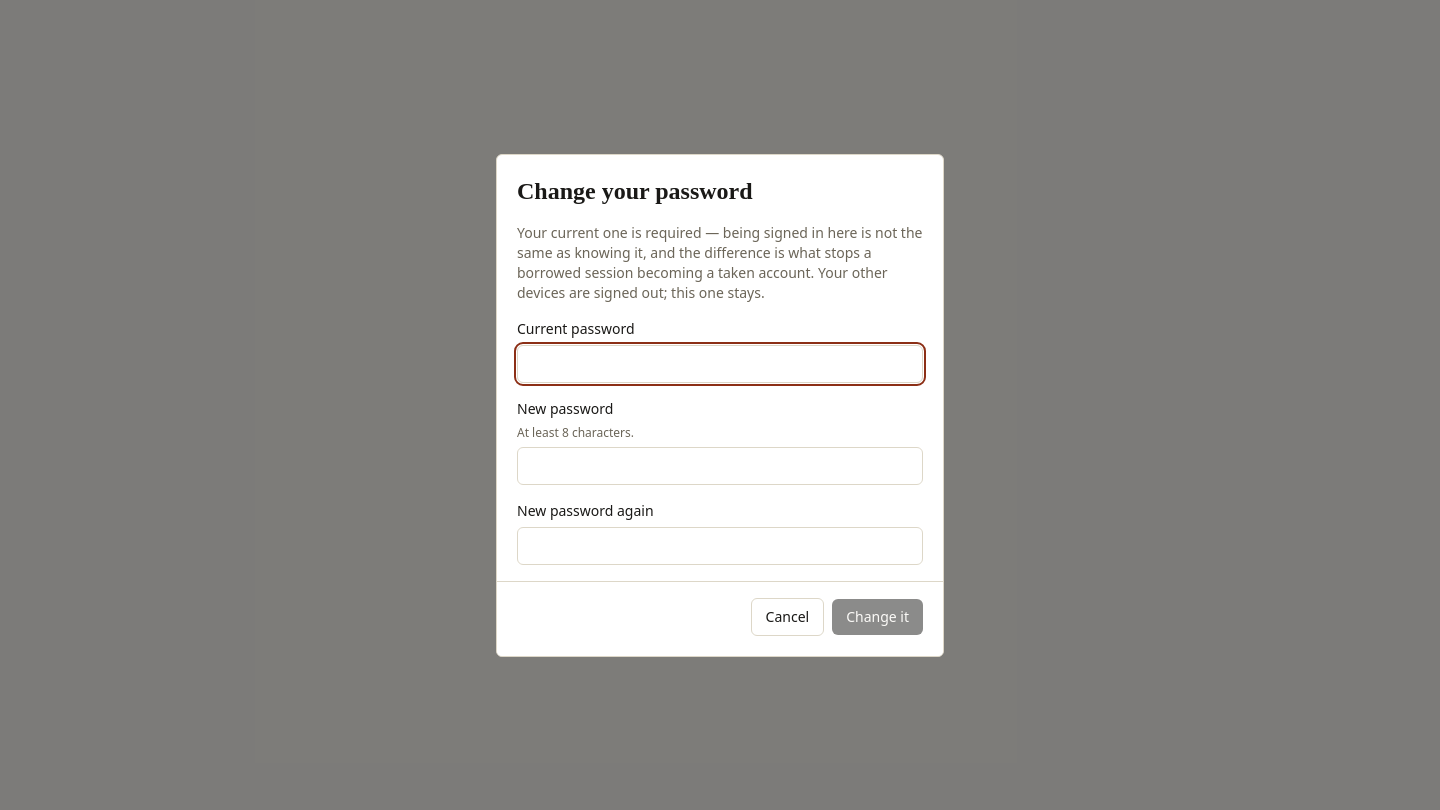
PasswordDialog › says what the refusal was, and stays open
Step 1. Type "wrong-horse" into the password field labelled "Current password" → (720, 364), box [517, 344, 923, 382]
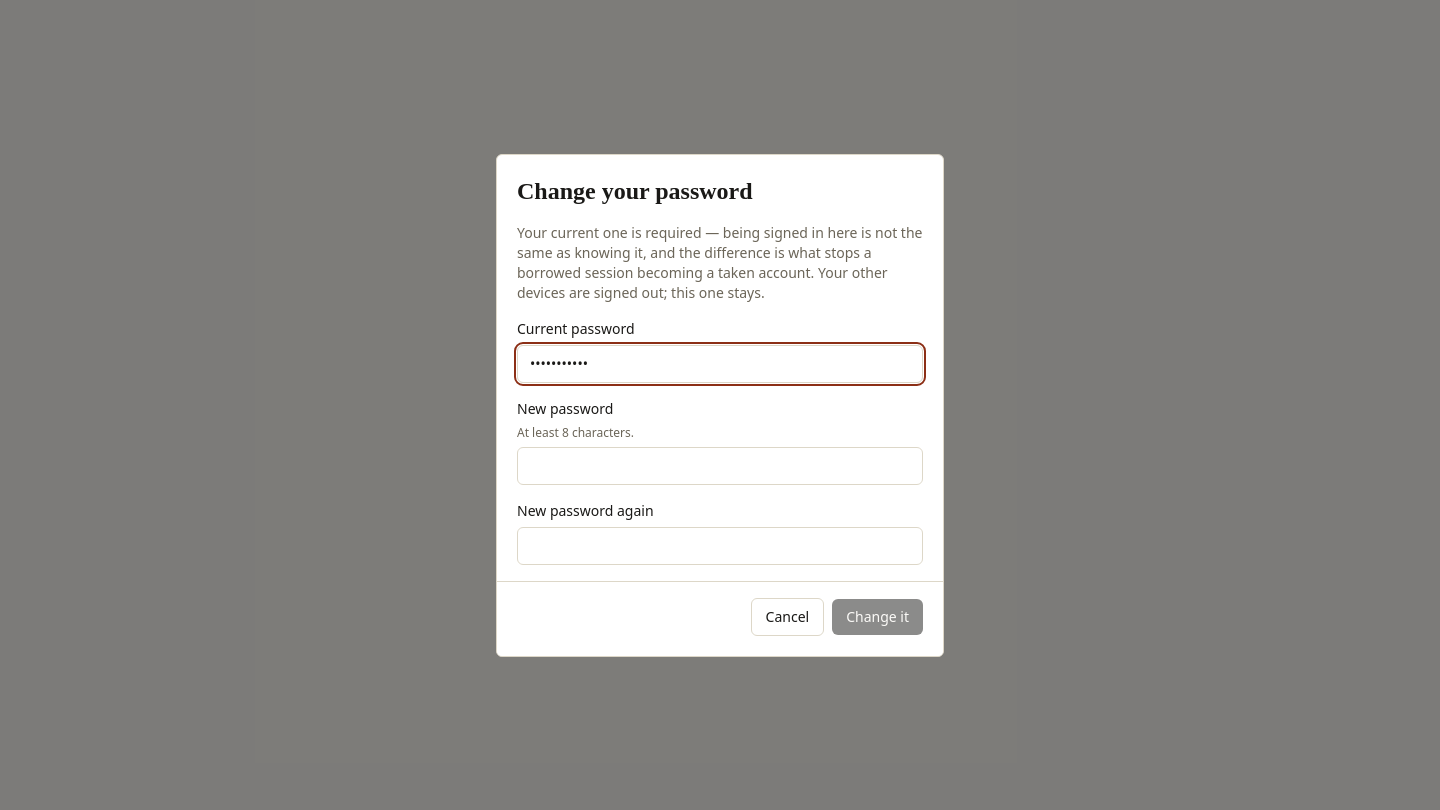
Step 2. Type "a-brand-new-one" into the password field labelled "New password" → (720, 466), box [517, 446, 923, 484]
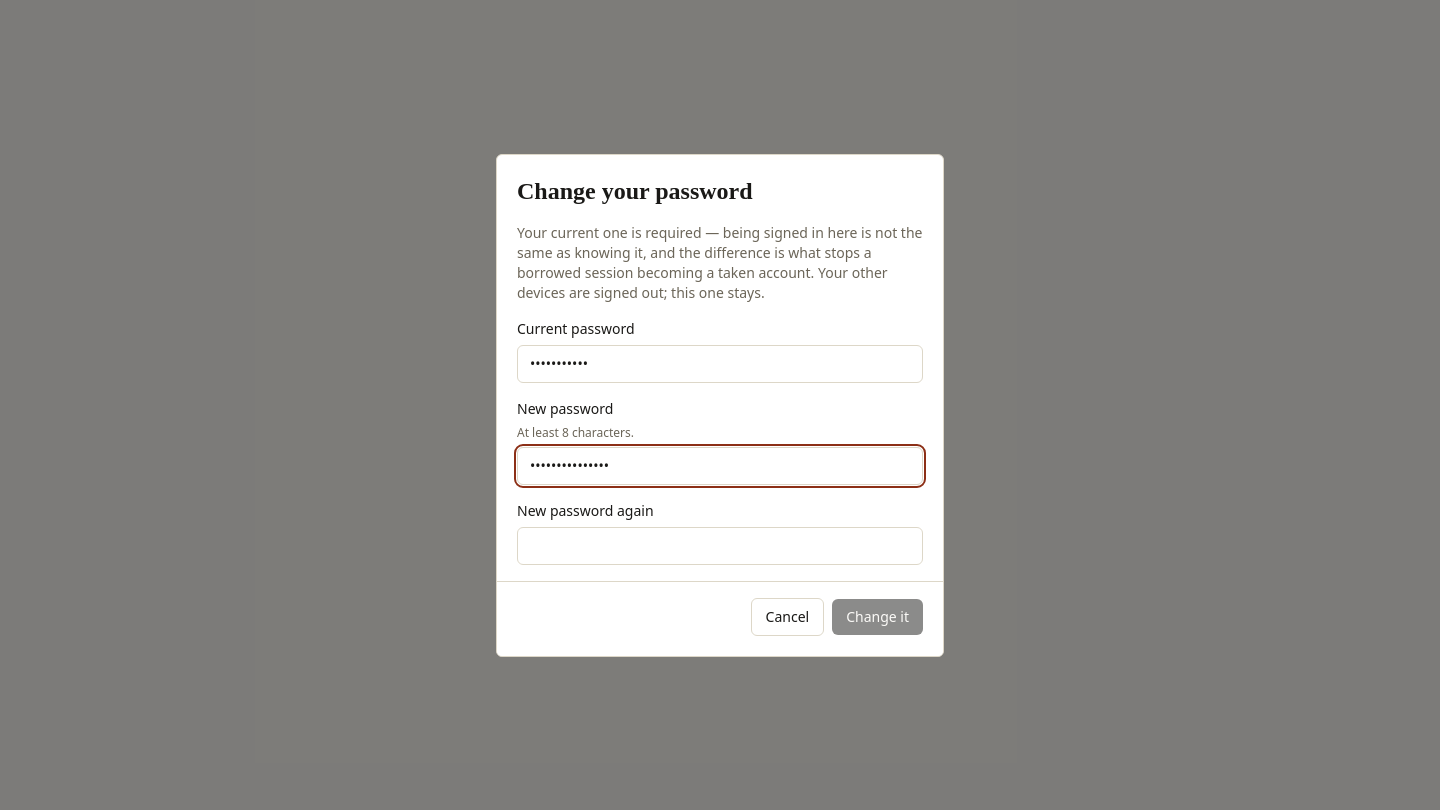
Step 3. Type "a-brand-new-one" into the password field labelled "New password again" → (720, 546), box [517, 526, 923, 564]
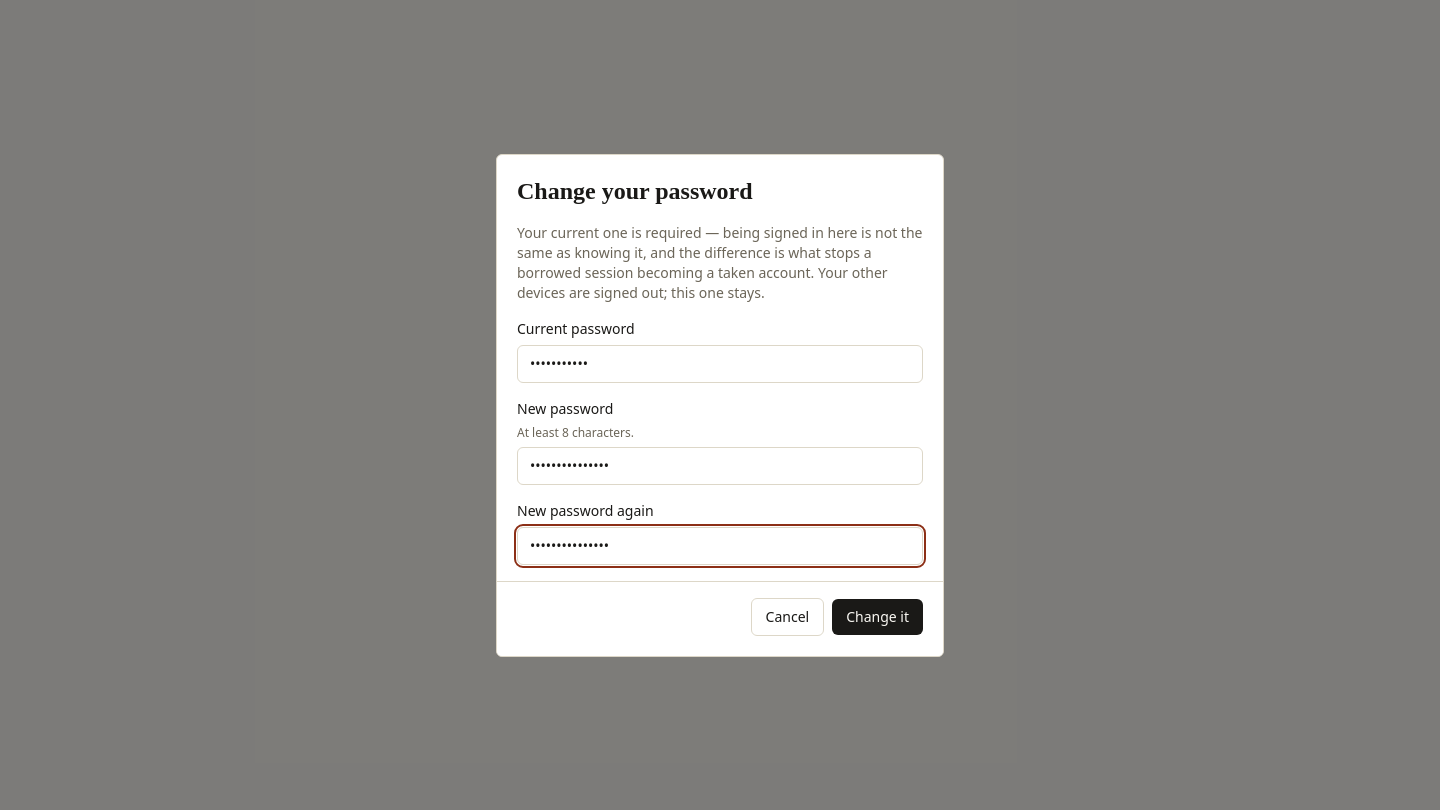
Step 4. Click the button "Change it" → (878, 616), box [832, 598, 923, 634]
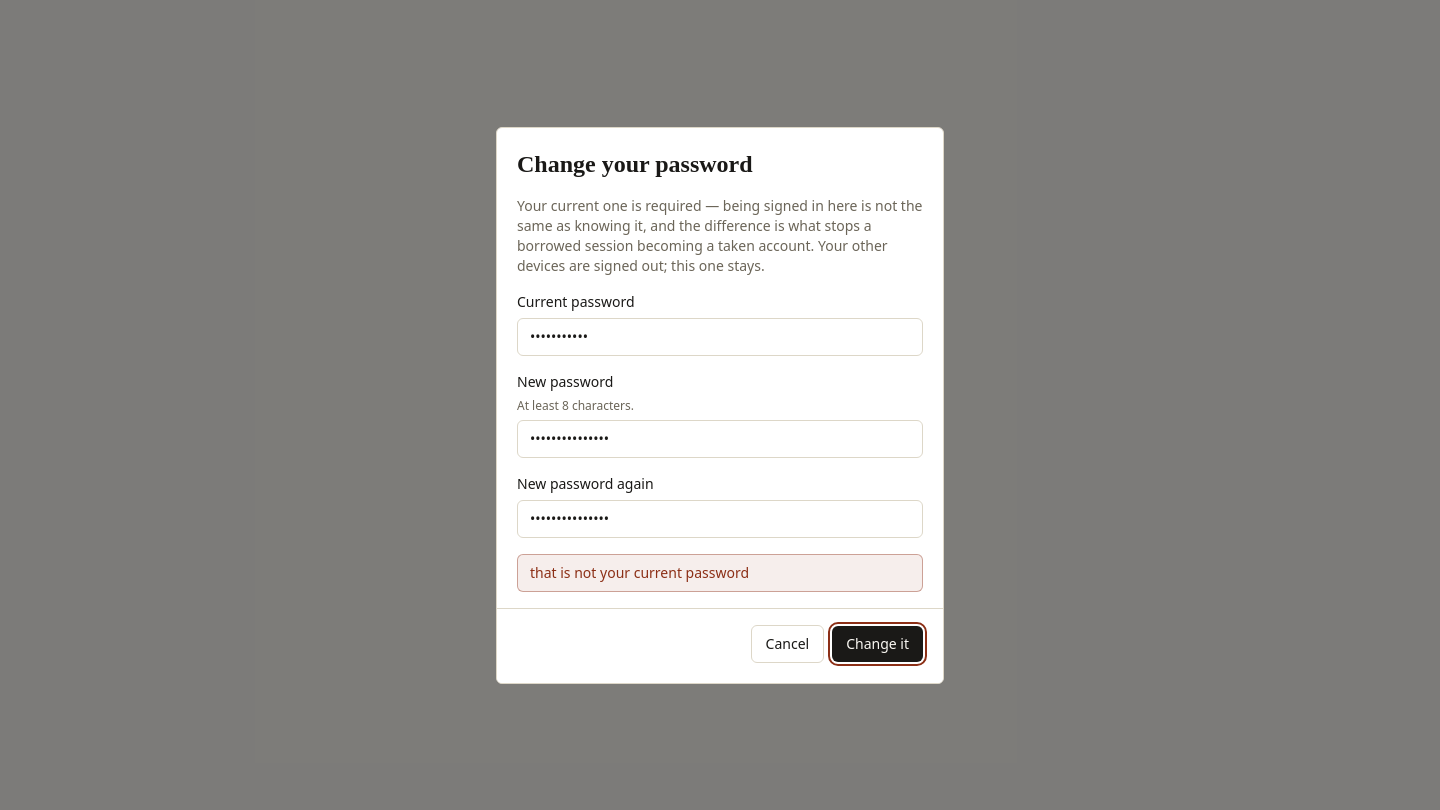
Expected: the text "that is not your current password" is shown, [517, 554, 923, 592]
